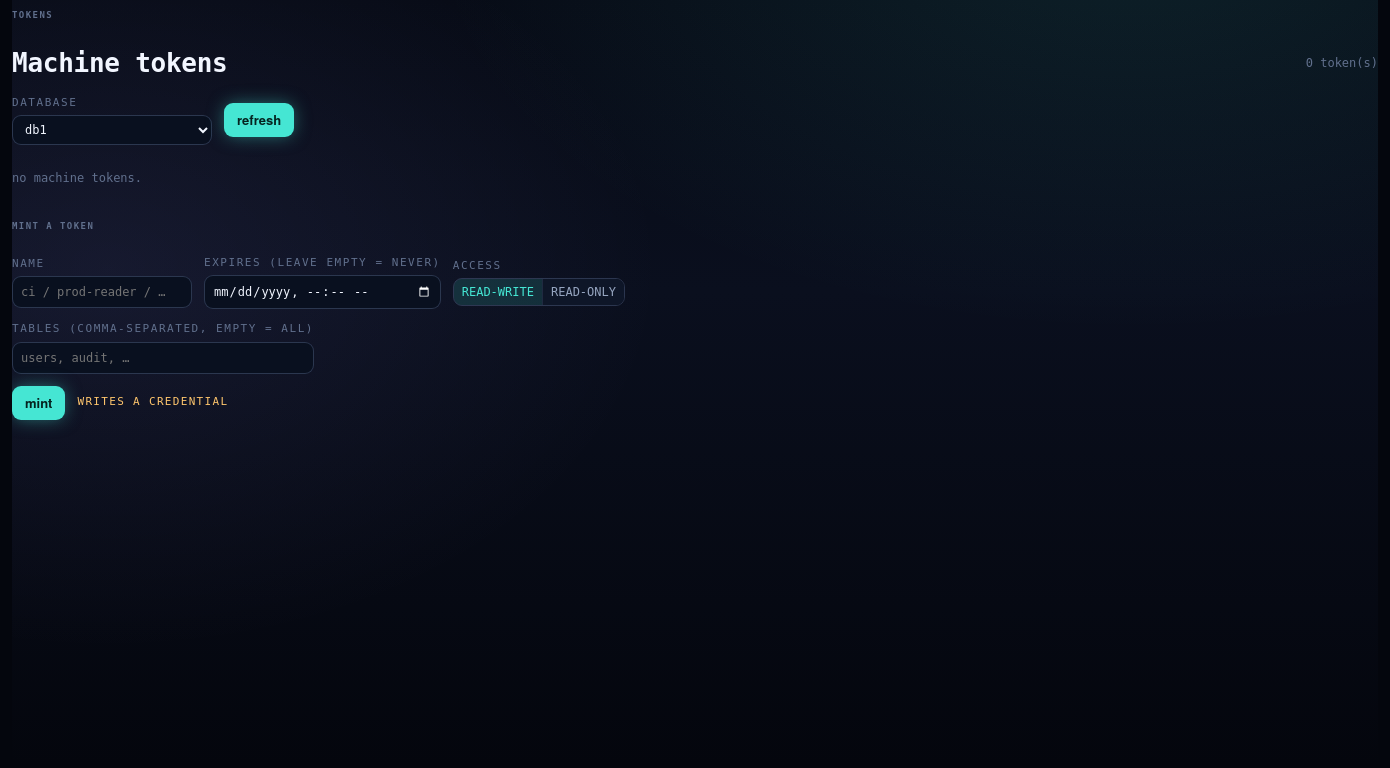
Test: TokensPage › mints a token with the form's capabilities and reveals the secret
Check: the text "no machine tokens." is shown, box [12, 171, 142, 185]
Type "ci token" into the field labelled "name".
click(102, 292); type("ci token")  # box [12, 276, 192, 308]
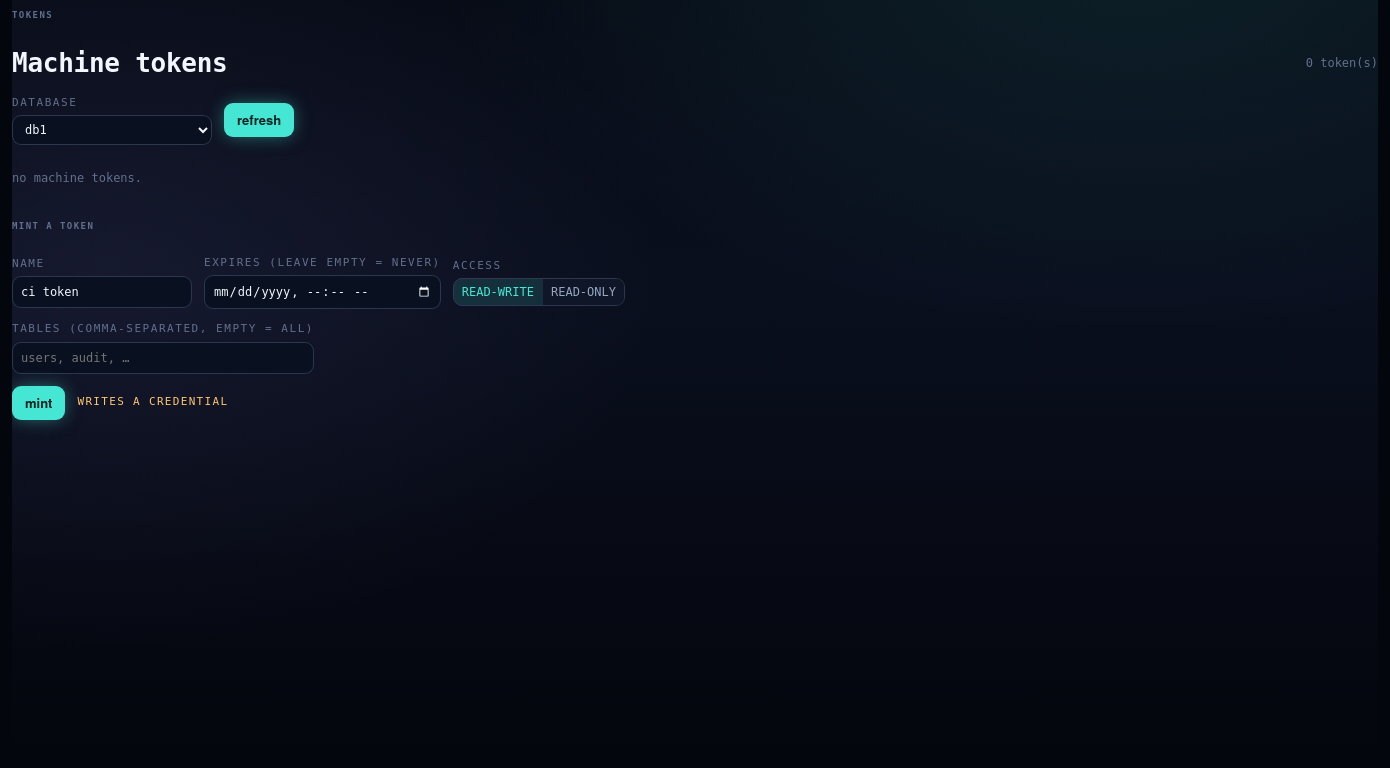
Click the button "read-only".
click(583, 292)  # box [542, 279, 624, 305]
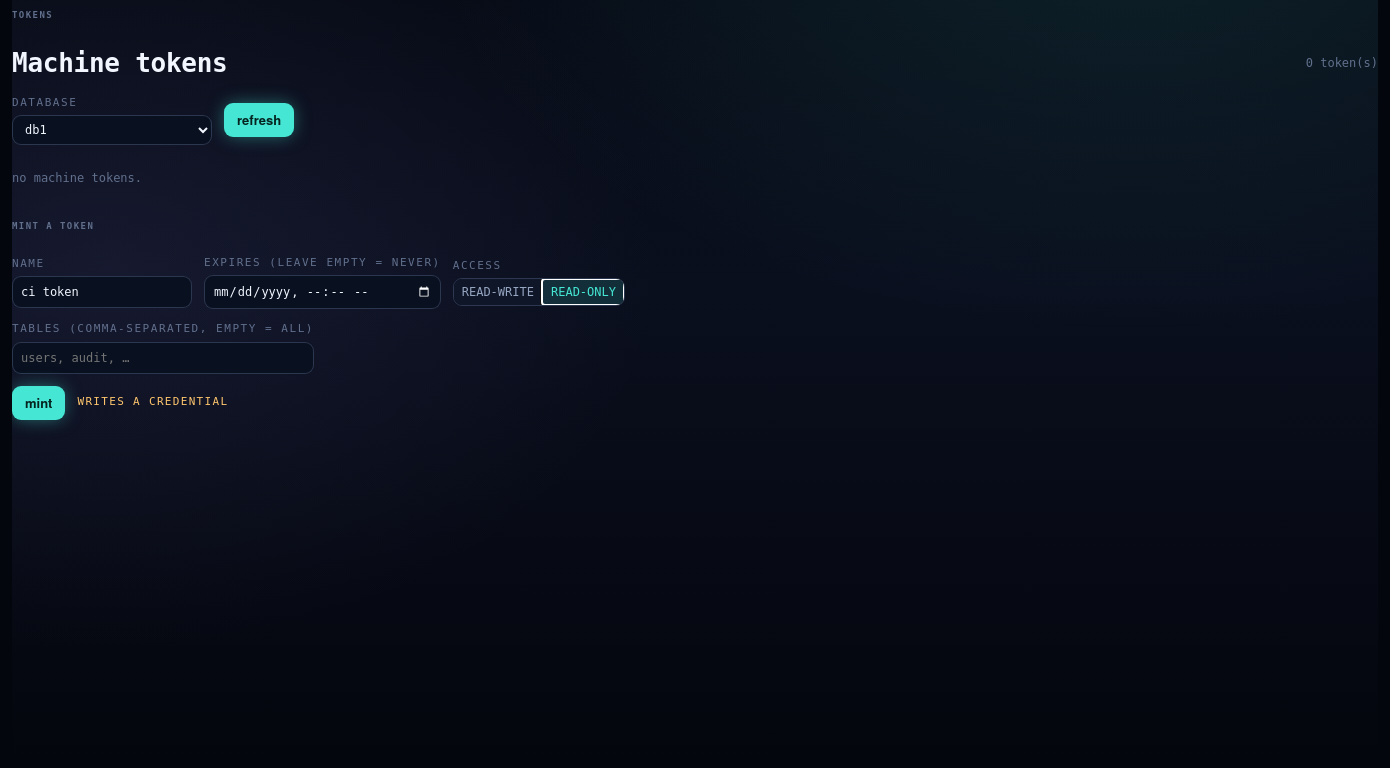
Type "users" into the field labelled "tables (comma-separated, empty = all)".
click(163, 358); type("users")  # box [12, 342, 314, 374]
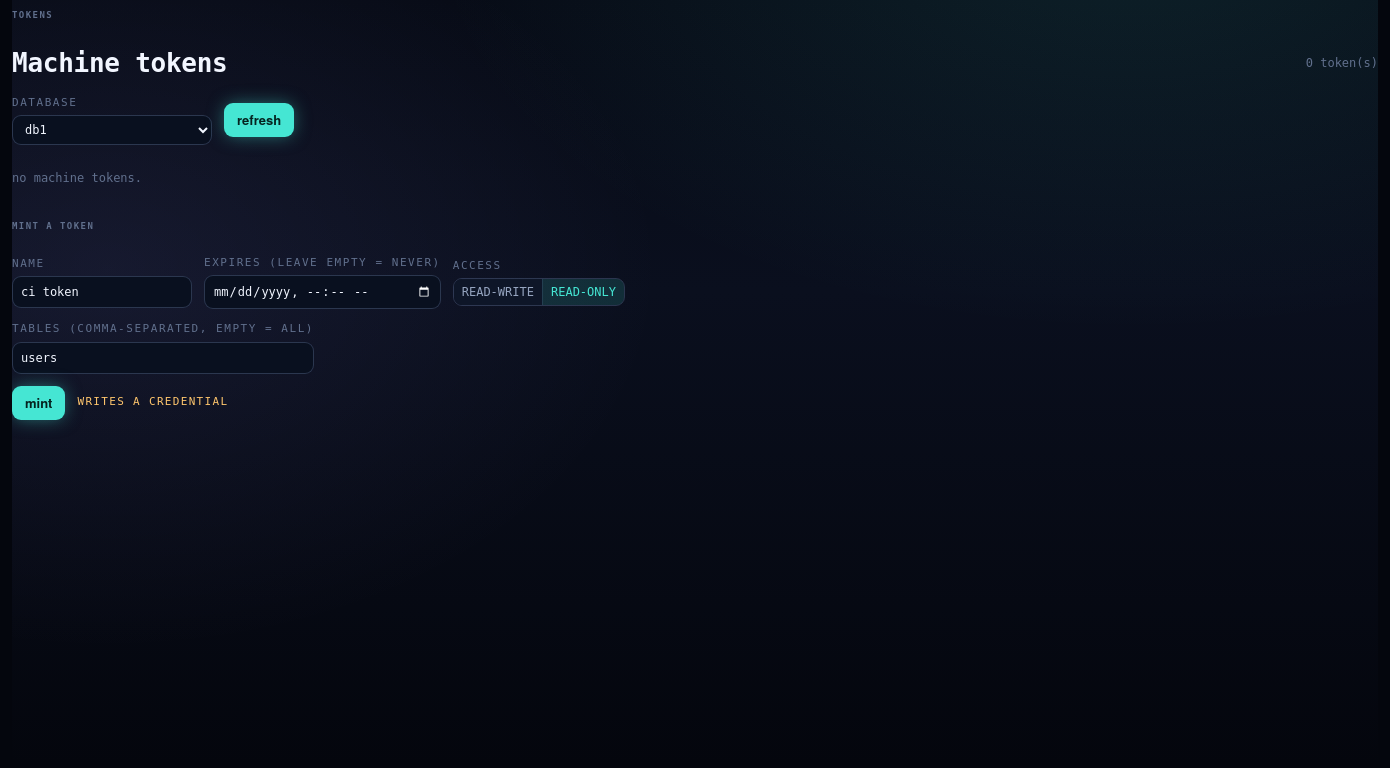
Click the button "mint".
click(39, 402)  # box [12, 386, 66, 420]
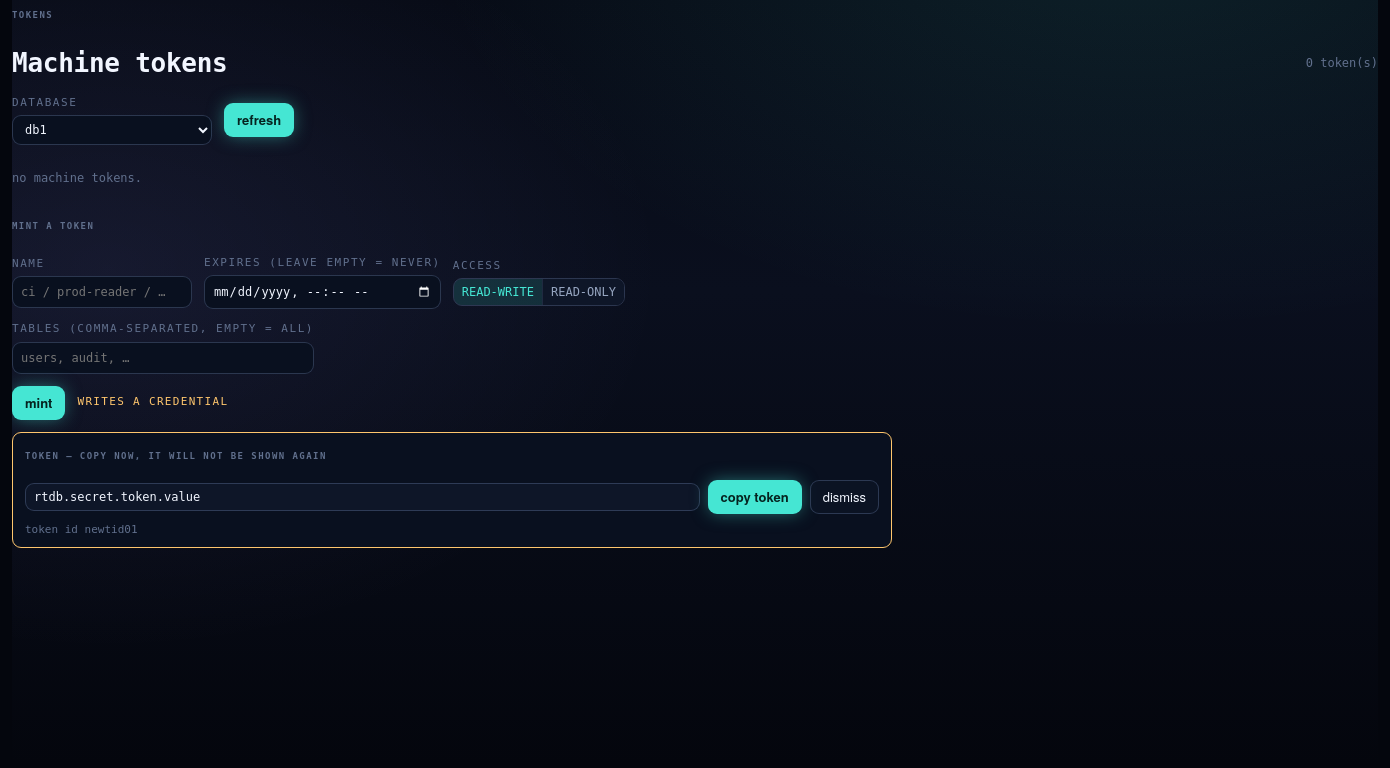
Check: the text "rtdb.secret.token.value" is shown, box [25, 483, 700, 511]
